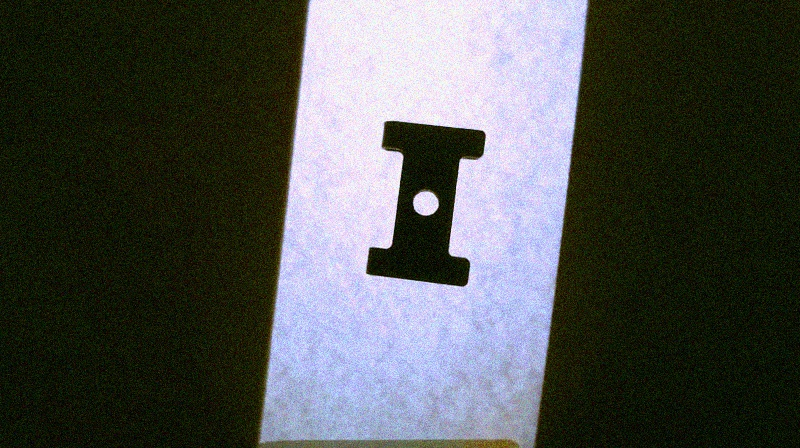O002: (357, 118, 489, 288)
